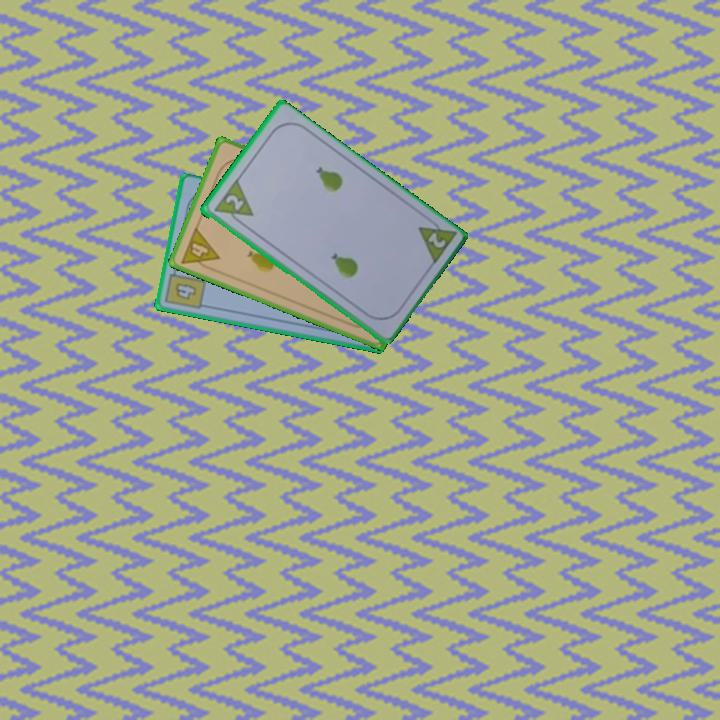2p: (209, 177, 256, 230), (424, 229, 448, 251)
4b: (162, 263, 208, 313)
4p: (178, 224, 222, 275)
